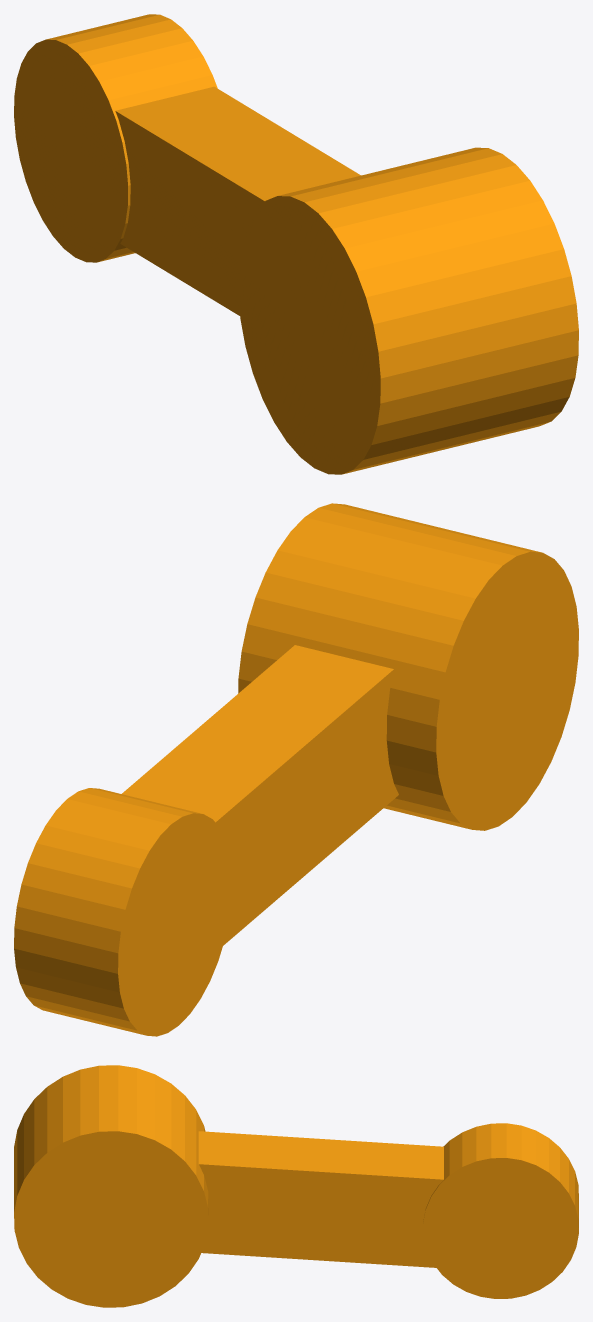
Rendered from bike.glb.
3 renders of one model, top to bottom at view 1: azimuth 30°, elevation 25°; view 2: azimuth 150°, elevation 25°; view 3: azimuth 270°, elevation 25°, orthographic. The views are drawn at different scales.
Visible parts, largest first — view 1: WheelFront, WheelBack, Body; view 2: WheelFront, WheelBack, Body; view 3: WheelFront, Body, WheelBack.
Part boxes in pixels (x1=…): WheelFront: x1=238, y1=147, x2=578, y2=474; WheelBack: x1=14, y1=14, x2=217, y2=262; Body: x1=115, y1=86, x2=360, y2=315; WheelFront: x1=238, y1=503, x2=578, y2=830; WheelBack: x1=14, y1=788, x2=232, y2=1036; Body: x1=122, y1=645, x2=398, y2=945; WheelFront: x1=14, y1=1065, x2=208, y2=1307; Body: x1=198, y1=1131, x2=443, y2=1267; WheelBack: x1=423, y1=1123, x2=578, y2=1298.
Bounding box in the file's own units: 1.6 × 2.07 × 5.79.
